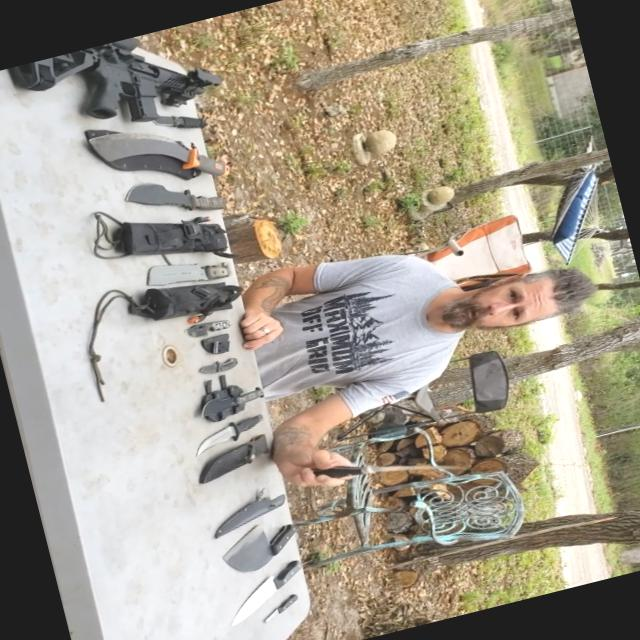knife: (78, 100, 234, 216), (303, 430, 473, 505), (108, 158, 222, 241), (222, 553, 327, 626), (134, 242, 245, 308), (215, 518, 308, 580), (186, 402, 278, 463), (149, 96, 223, 158), (191, 379, 274, 427), (180, 310, 240, 350), (256, 586, 304, 628), (194, 352, 240, 384)
long weapon: (14, 20, 225, 156)
